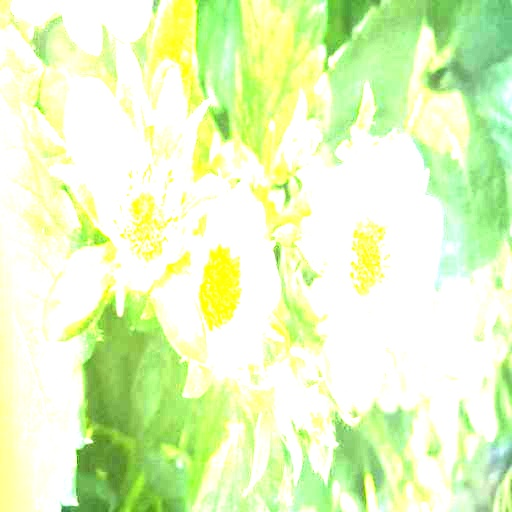Blossom Blight: (107, 160, 183, 268), (342, 204, 400, 326)
